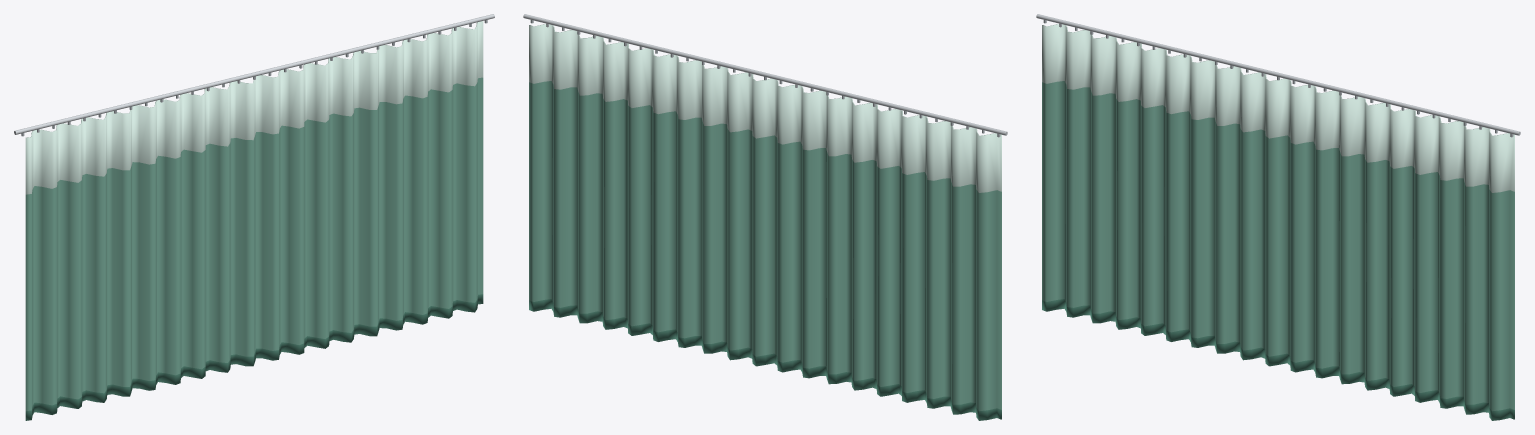
The model's file is Privacy_Curtain.glb.
The picture shows the model from 3 angles, left to right: view 1: azimuth 30°, elevation 25°; view 2: azimuth 150°, elevation 25°; view 3: azimuth 330°, elevation 25°; orthographic projection.
Visible parts, largest first — view 1: CurtainCloth, Track; view 2: CurtainCloth, Track; view 3: CurtainCloth, Track.
Part boxes in pixels (x1,y1,x2,y2): CurtainCloth: [25, 21, 483, 420]; Track: [14, 14, 494, 134]; CurtainCloth: [529, 24, 1001, 420]; Track: [523, 14, 1007, 135]; CurtainCloth: [1042, 24, 1514, 420]; Track: [1036, 14, 1520, 135].
Bounding box in the file's own units: 3.1 × 1.79 × 0.096.
